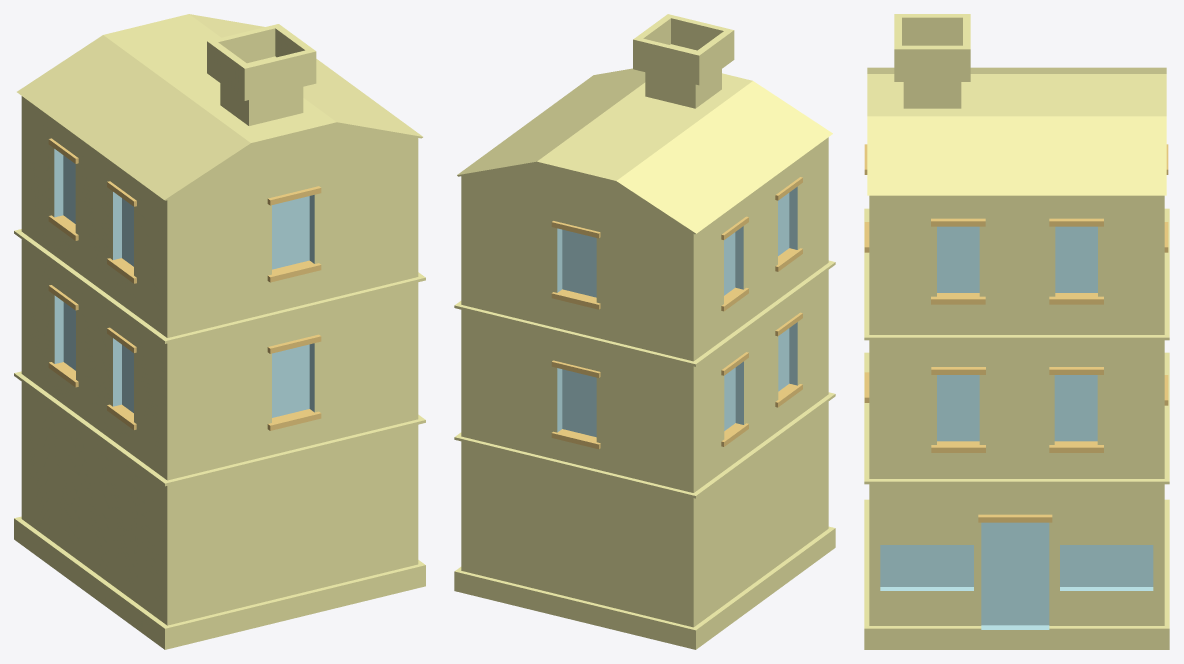
File: Edificio.fbx
The picture shows the model from 3 angles, left to right: view 1: azimuth 30°, elevation 25°; view 2: azimuth 150°, elevation 25°; view 3: azimuth 270°, elevation 25°; orthographic projection. The views are drawn at different scales.
Parts seen in each view (by area): view 1: Walls; view 2: Walls; view 3: Walls.
Boxes of the visible parts, x1,y1,x2,y2 form: Walls: (14,14,425,649); Walls: (454,14,835,649); Walls: (864,14,1169,649).
Bounding box in the file's own units: 2500 × 5000 × 2500.
